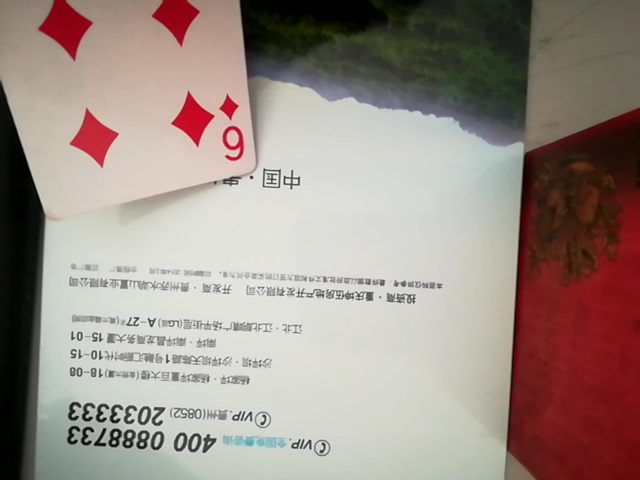fk 6: (4, 0, 263, 228)
